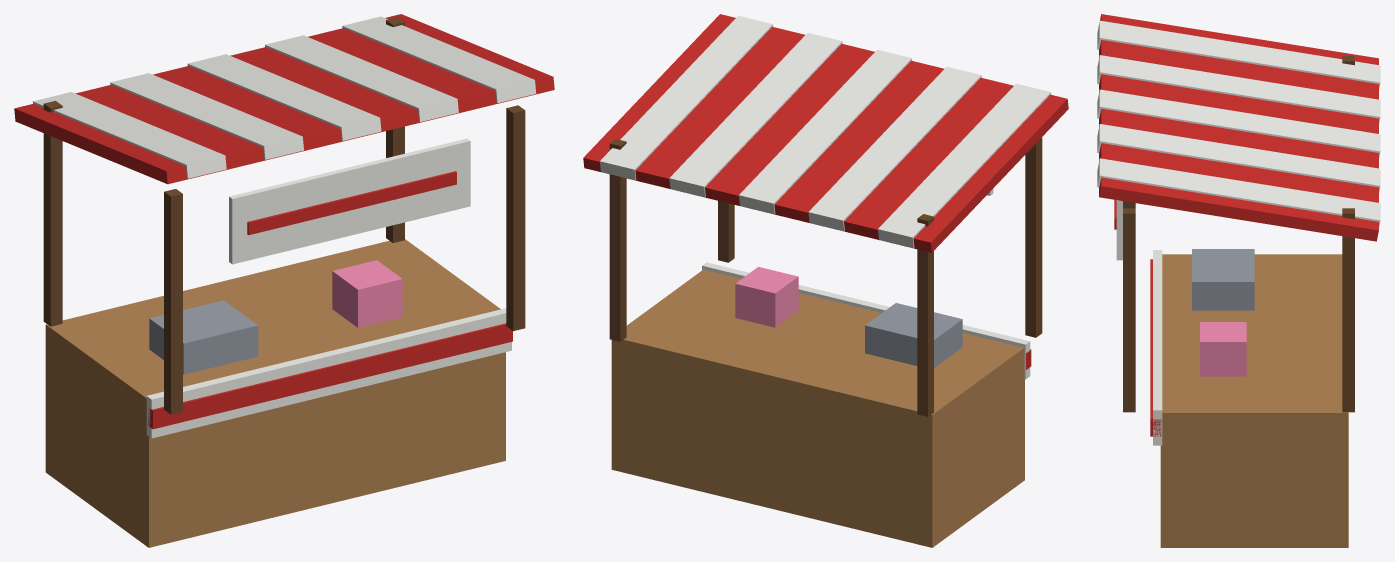
Rendered from p_yatai.glb.
3 renders of one model, left to right at view 1: azimuth 30°, elevation 25°; view 2: azimuth 150°, elevation 25°; view 3: azimuth 270°, elevation 25°, orthographic. The views are drawn at different scales.
Parts seen in each view (by area): view 1: yatai; view 2: yatai; view 3: yatai.
Part boxes in pixels (left/top/right/bottom): yatai: left=14, top=14, right=554, bottom=547; yatai: left=583, top=14, right=1068, bottom=547; yatai: left=1097, top=14, right=1380, bottom=547.
Bounding box in the file's own units: 2.6 × 2.61 × 1.81.
